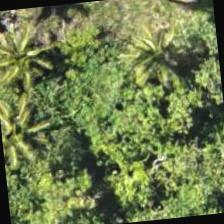Kelapa_Sawit: (110, 0, 210, 99), (0, 4, 78, 101), (0, 70, 62, 166)
